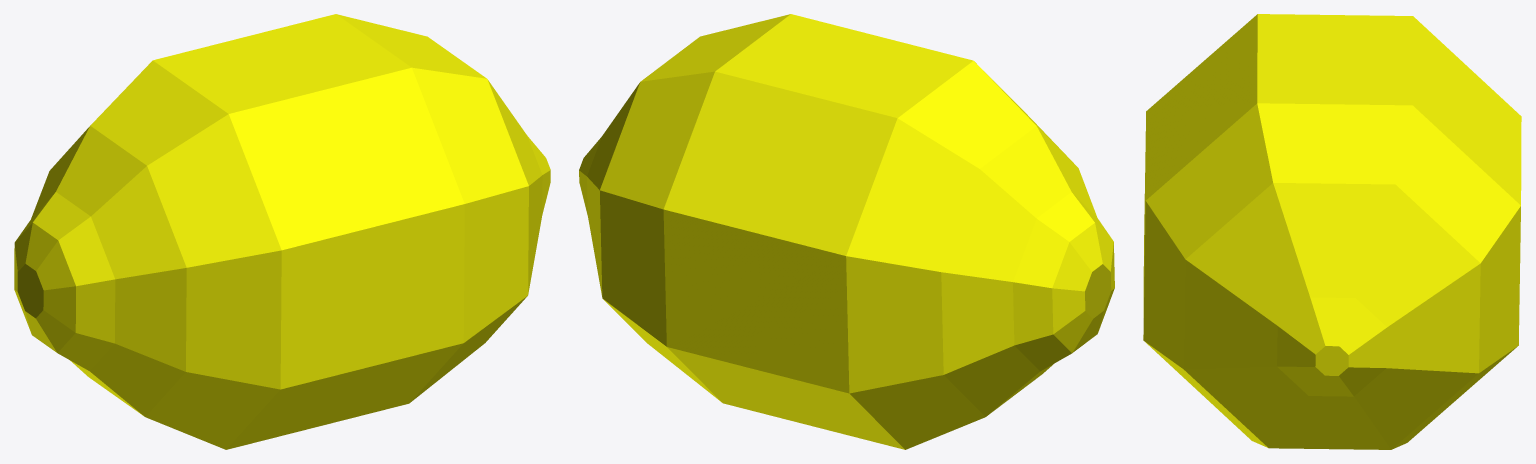
File: lemon01.obj
The picture shows the model from 3 angles, left to right: view 1: azimuth 30°, elevation 25°; view 2: azimuth 150°, elevation 25°; view 3: azimuth 270°, elevation 25°; orthographic projection. The views are drawn at different scales.
Visible parts, largest first — view 1: Cylinder; view 2: Cylinder; view 3: Cylinder.
Boxes of the visible parts, x1,y1,x2,y2 form: Cylinder: [14, 14, 550, 449]; Cylinder: [579, 14, 1114, 449]; Cylinder: [1143, 14, 1521, 449].
Bounding box in the file's own units: 0.0849 × 0.0533 × 0.0531.
Materials: 1 (1 with a texture image).
